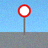sign: (18, 4, 31, 35)
